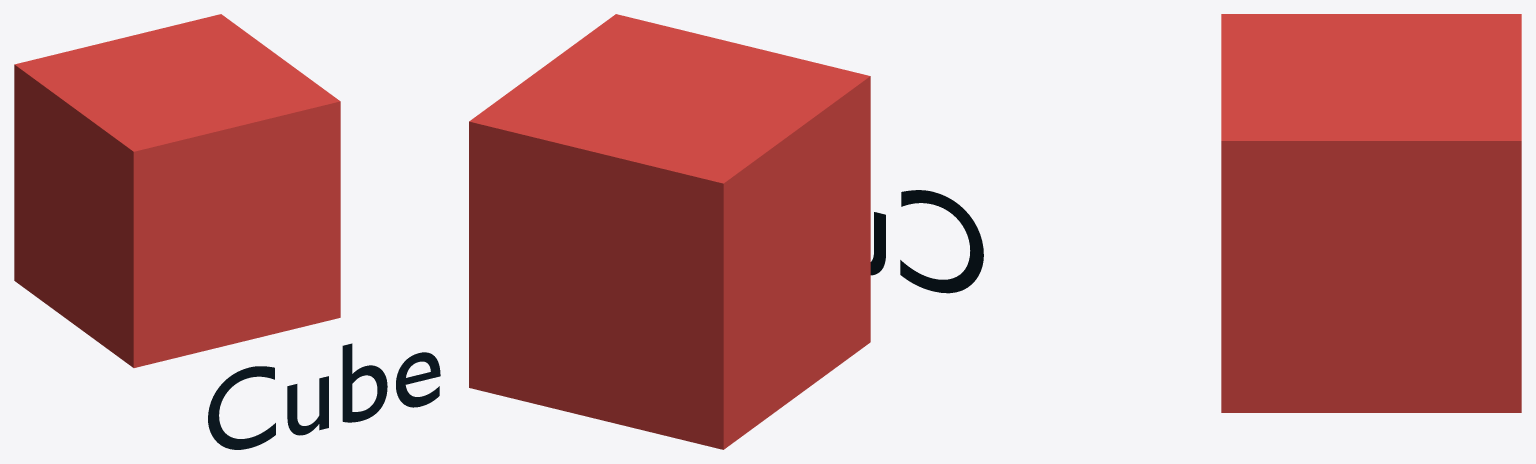
Rendered from cube_static.gltf.
The picture shows the model from 3 angles, left to right: view 1: azimuth 30°, elevation 25°; view 2: azimuth 150°, elevation 25°; view 3: azimuth 270°, elevation 25°; orthographic projection. The views are drawn at different scales.
Visible parts, largest first — view 1: Cube, Text; view 2: Cube, Text; view 3: Cube.
Part boxes in pixels (bbox=[...]): Cube: bbox=[14, 14, 340, 367]; Text: bbox=[208, 343, 440, 449]; Cube: bbox=[469, 14, 870, 449]; Text: bbox=[870, 190, 983, 293]; Cube: bbox=[1221, 14, 1521, 412].
Bounding box in the file's own units: 0.225 × 0.2252 × 0.3393.
